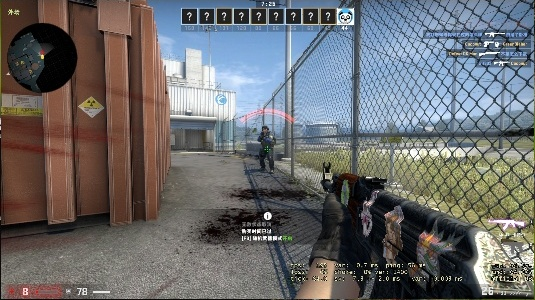body: (257, 125, 277, 173)
head: (261, 125, 268, 135)
